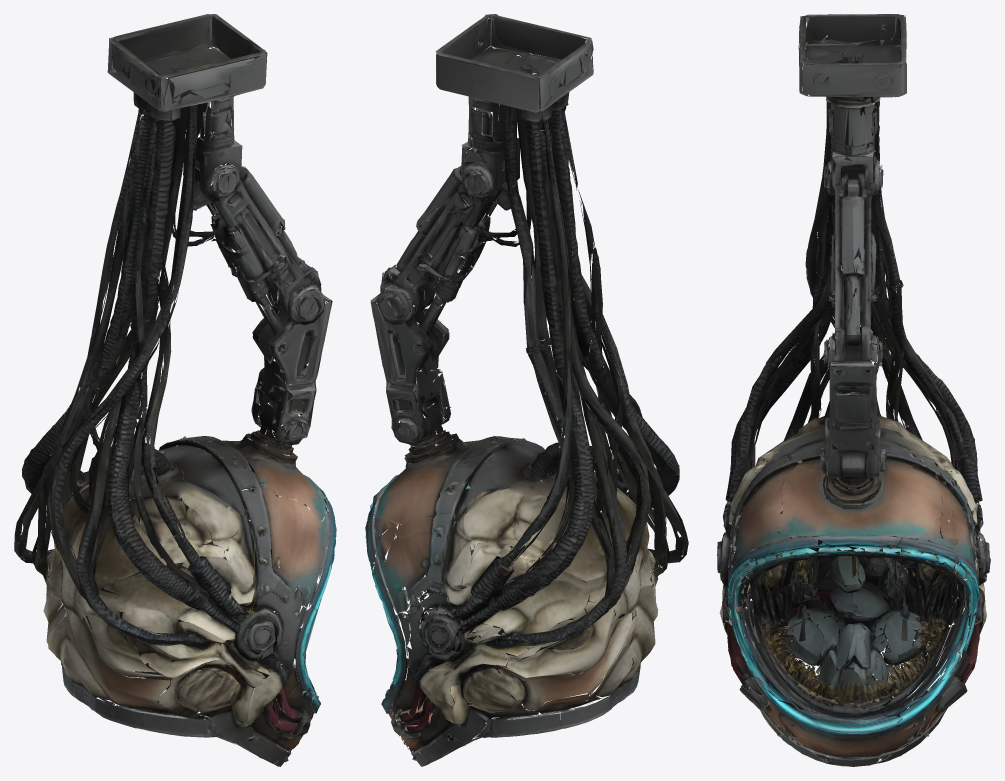
File: vass_neural_sync_helmet.glb
The picture shows the model from 3 angles, left to right: view 1: azimuth 30°, elevation 25°; view 2: azimuth 150°, elevation 25°; view 3: azimuth 270°, elevation 25°; orthographic projection. The views are drawn at different scales.
Visible parts, largest first — view 1: node_0; view 2: node_0; view 3: node_0.
Part boxes in pixels (left/top/right/bottom): node_0: left=14, top=14, right=336, bottom=766; node_0: left=365, top=14, right=688, bottom=766; node_0: left=717, top=14, right=990, bottom=766.
Size of the model in its own units: 0.4664 by 1.17 by 0.4178.
Materials: 1 (1 with a texture image).
